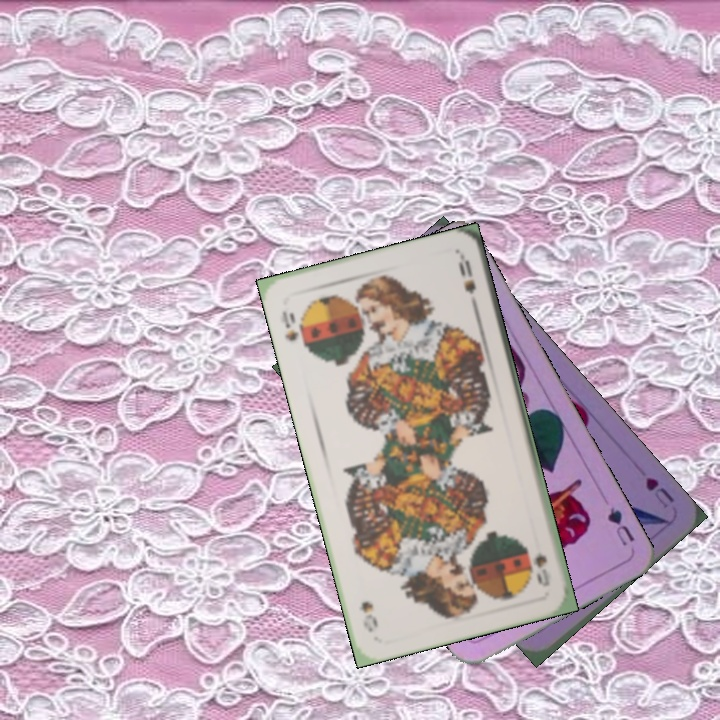GU: (603, 503, 638, 549)
HU: (641, 473, 677, 511)
SO: (530, 549, 553, 590), (277, 307, 301, 344)
